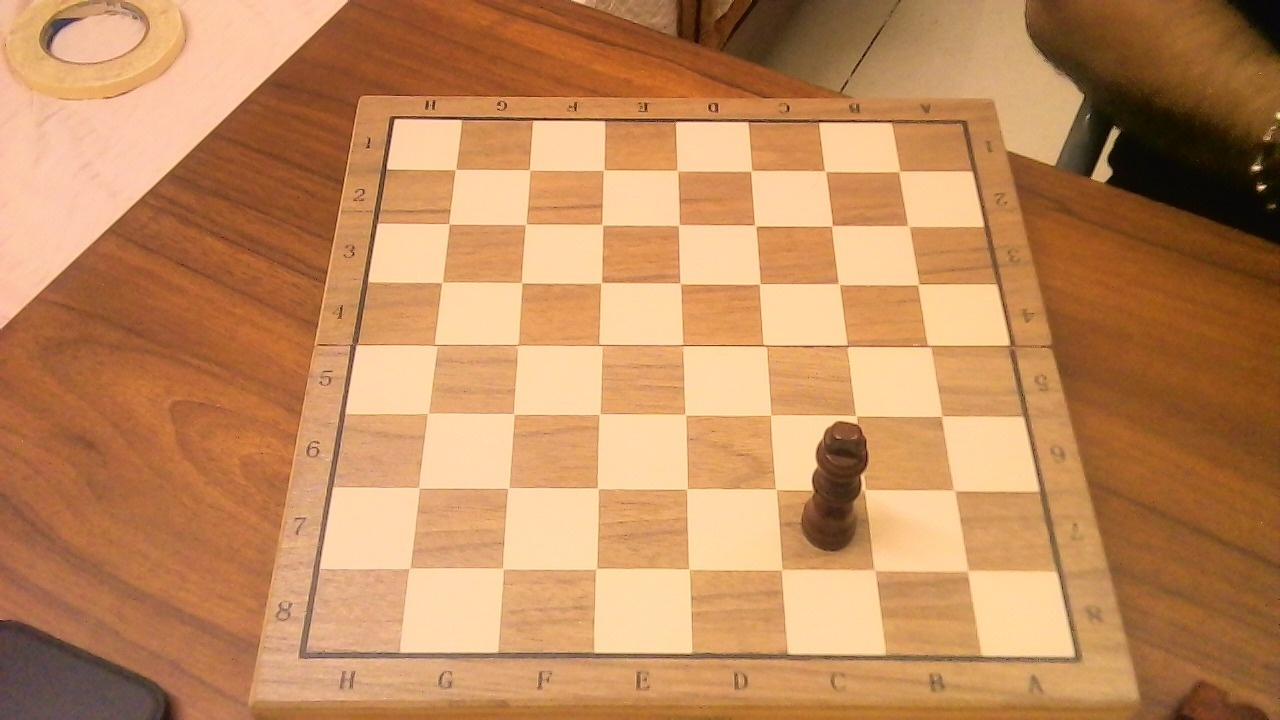k: (802, 405, 881, 557)
